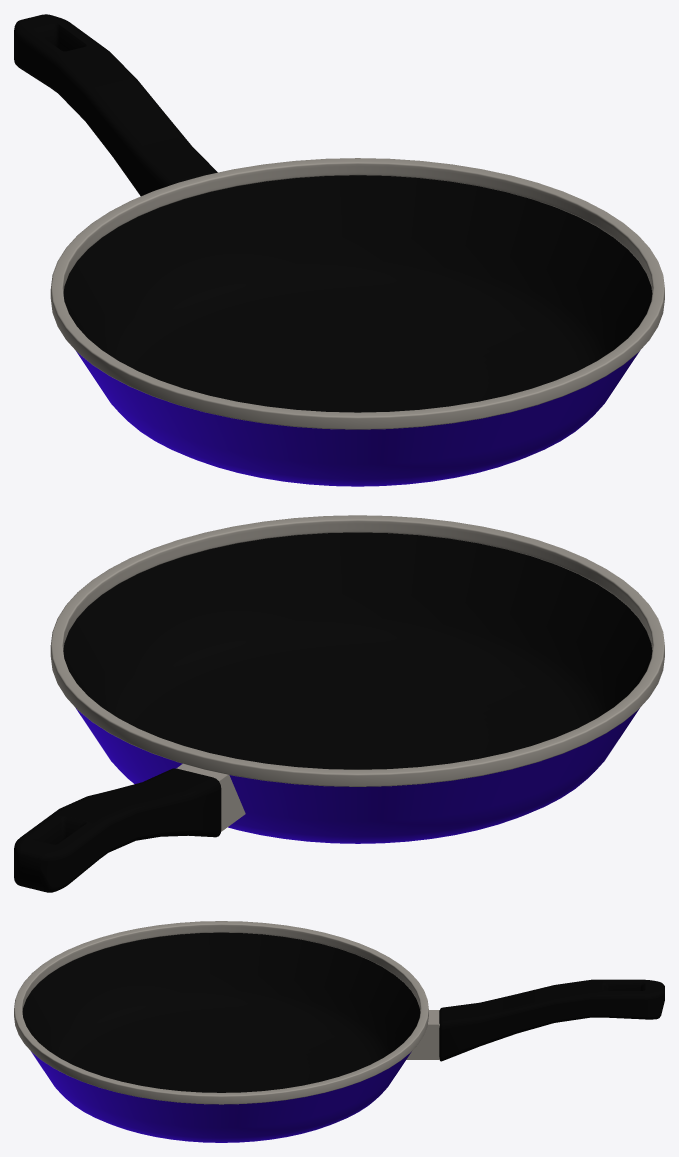
The model's file is FBX_tefflonPan.FBX.
3 views of the same model, one above another, from view 1: azimuth 30°, elevation 25°; view 2: azimuth 150°, elevation 25°; view 3: azimuth 270°, elevation 25° (orthographic). The views are drawn at different scales.
Parts seen in each view (by area): view 1: MSH_tefflonPan; view 2: MSH_tefflonPan; view 3: MSH_tefflonPan.
Boxes of the visible parts, x1,y1,x2,y2 form: MSH_tefflonPan: [14, 14, 664, 486]; MSH_tefflonPan: [14, 515, 664, 892]; MSH_tefflonPan: [14, 921, 664, 1142].
Bounding box in the file's own units: 12.92 × 3.17 × 20.27.
